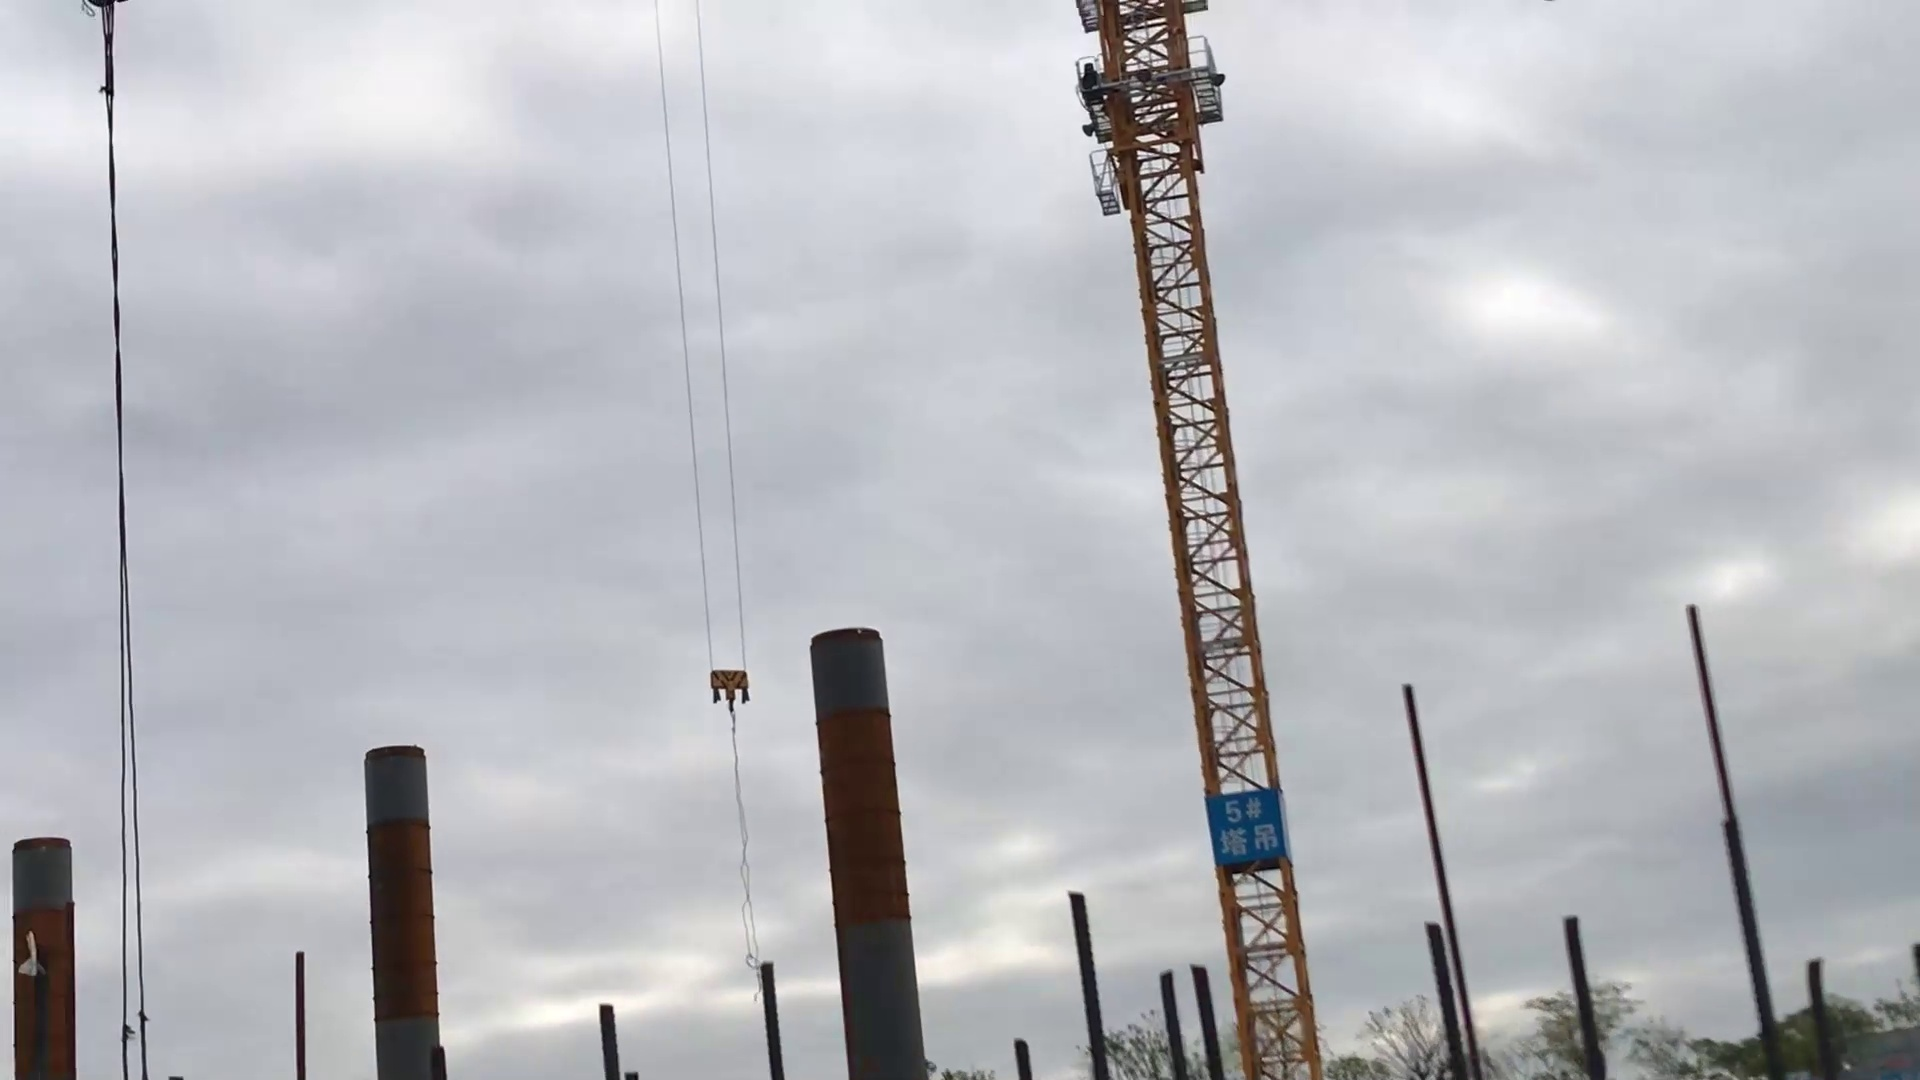hook: (703, 669, 754, 712)
